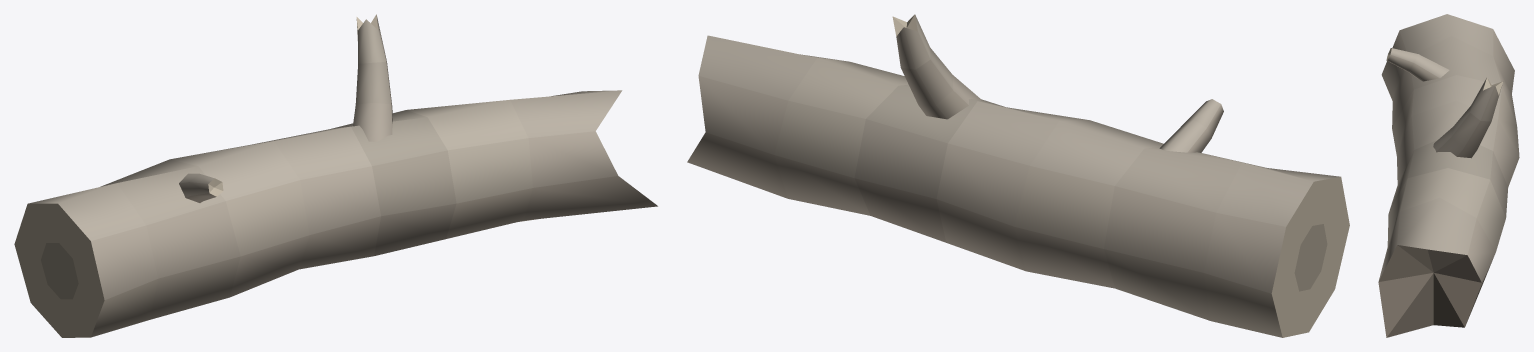
Rendered from DriftwoodLog_bark.glb.
3 renders of one model, left to right at view 1: azimuth 30°, elevation 25°; view 2: azimuth 150°, elevation 25°; view 3: azimuth 270°, elevation 25°, orthographic. The views are drawn at different scales.
Visible parts, largest first — view 1: DriftwoodLog_bark; view 2: DriftwoodLog_bark; view 3: DriftwoodLog_bark.
Boxes of the visible parts, bbox=[...] form: DriftwoodLog_bark: bbox=[14, 14, 657, 337]; DriftwoodLog_bark: bbox=[687, 14, 1349, 337]; DriftwoodLog_bark: bbox=[1378, 14, 1519, 337].
Bounding box in the file's own units: 5.63 × 2.14 × 1.46.
